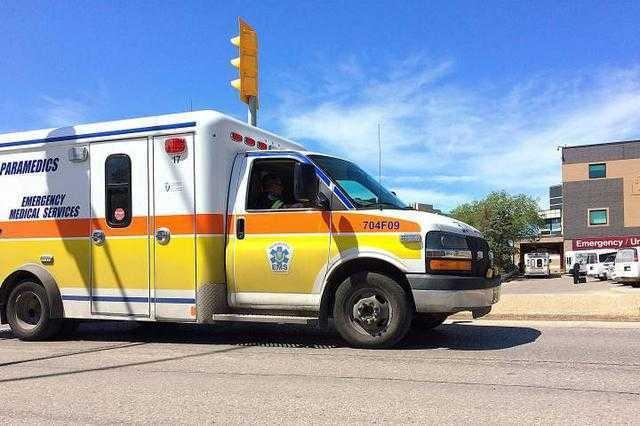car: (0, 108, 502, 348)
